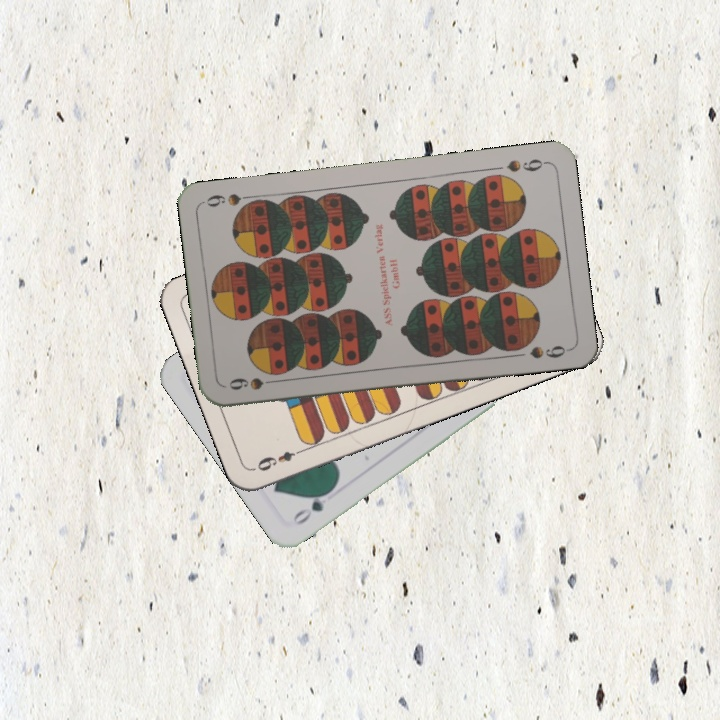E9: (250, 444, 307, 474)
GO: (289, 484, 337, 528)
S9: (224, 373, 283, 393), (502, 155, 550, 175)
